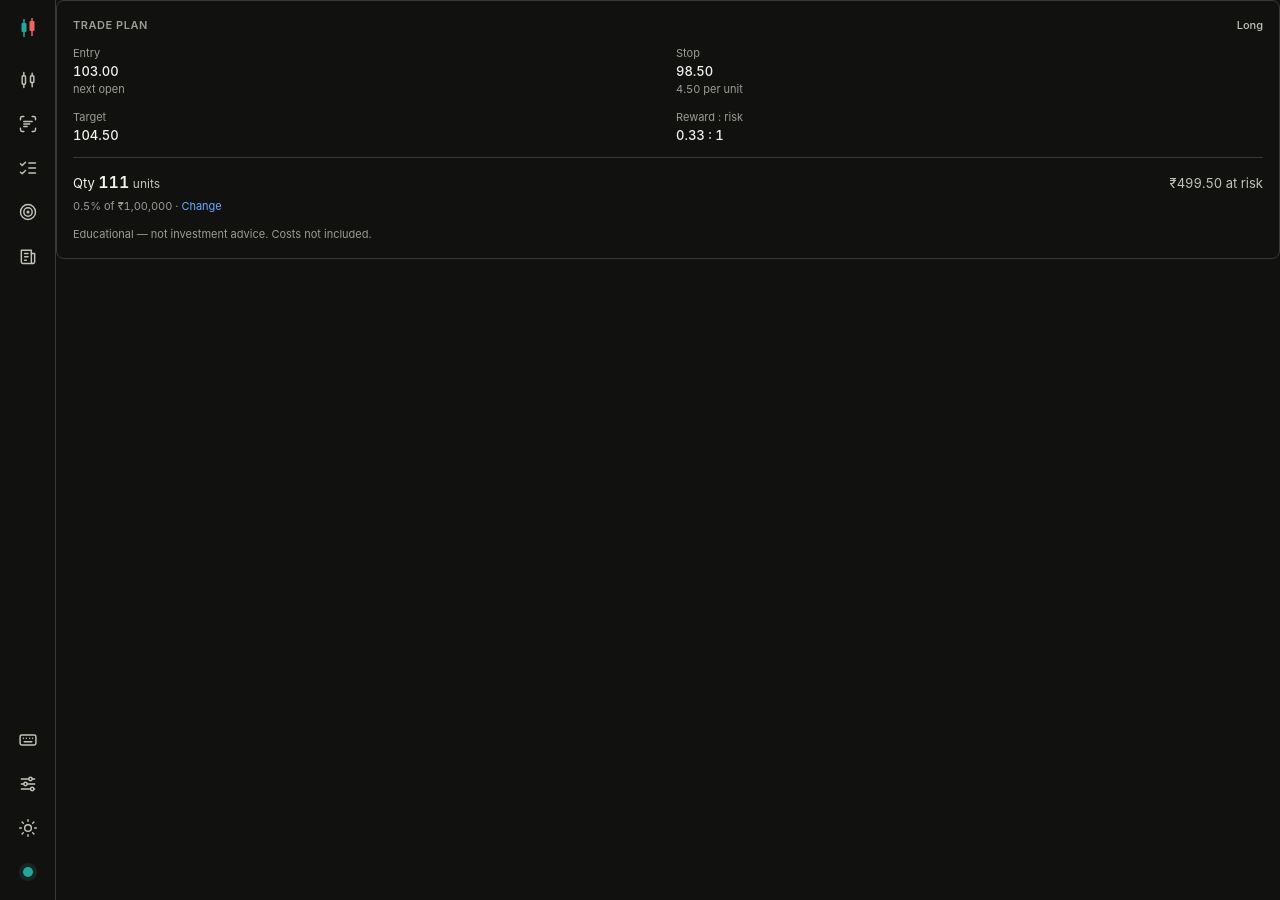
Test: app shell › edits capital and risk in Settings, and the trade card re-sizes and remembers
The width and height of the screenshot is (1280, 900).
Expected: the element "Trade plan" shows "Qty 111 units", top-left (56, 0), bottom-right (1279, 259)
Click the button named "Settings": (28, 784) top-left (8, 764), bottom-right (48, 804)
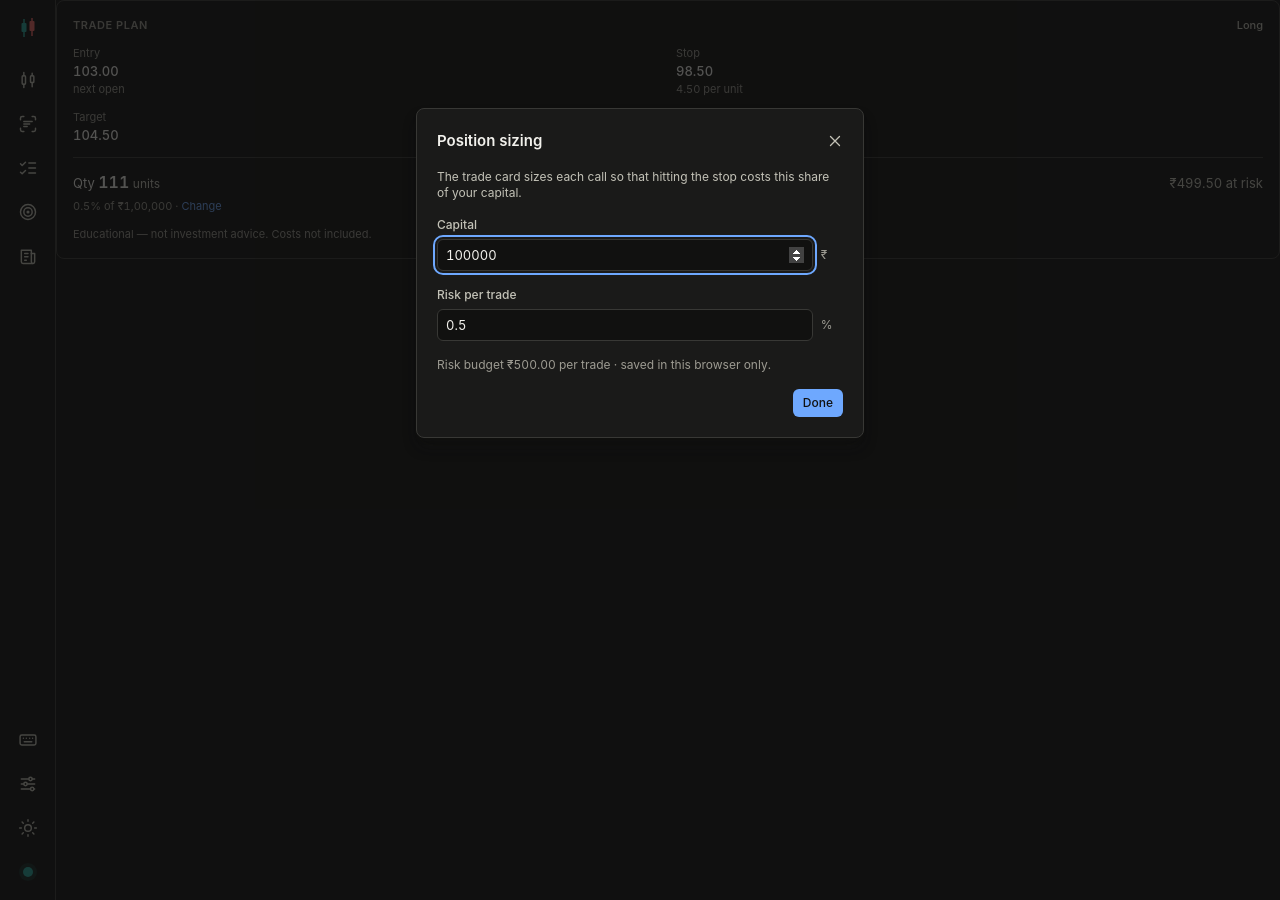
Replace the text in the number field labelled "Capital" with "200000": (625, 255) top-left (437, 239), bottom-right (813, 271)
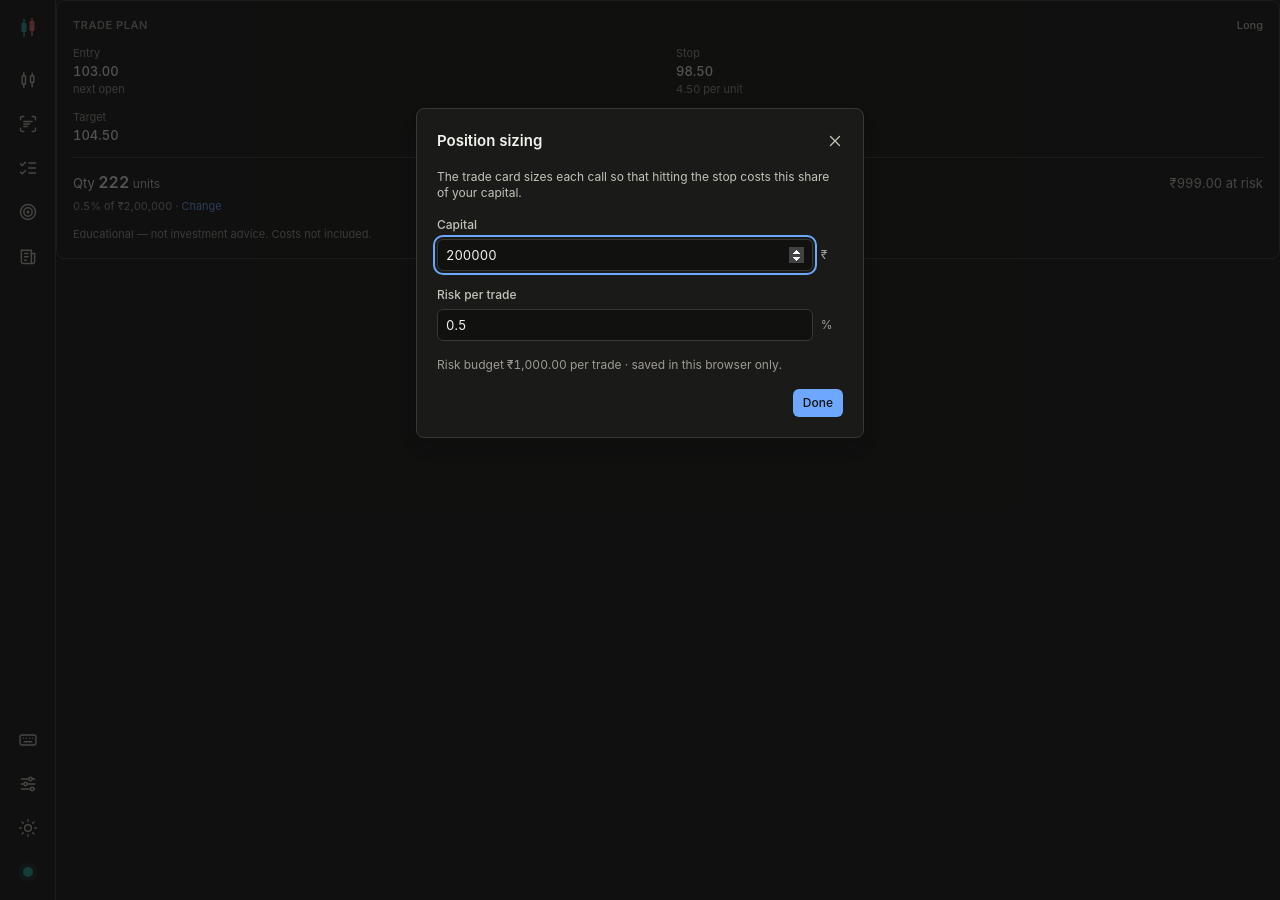
Now the element "Trade plan" shows "Qty 222 units", box top-left (56, 0), bottom-right (1279, 259)
Clear the number field labelled "Risk per trade": (625, 325) top-left (437, 309), bottom-right (813, 341)
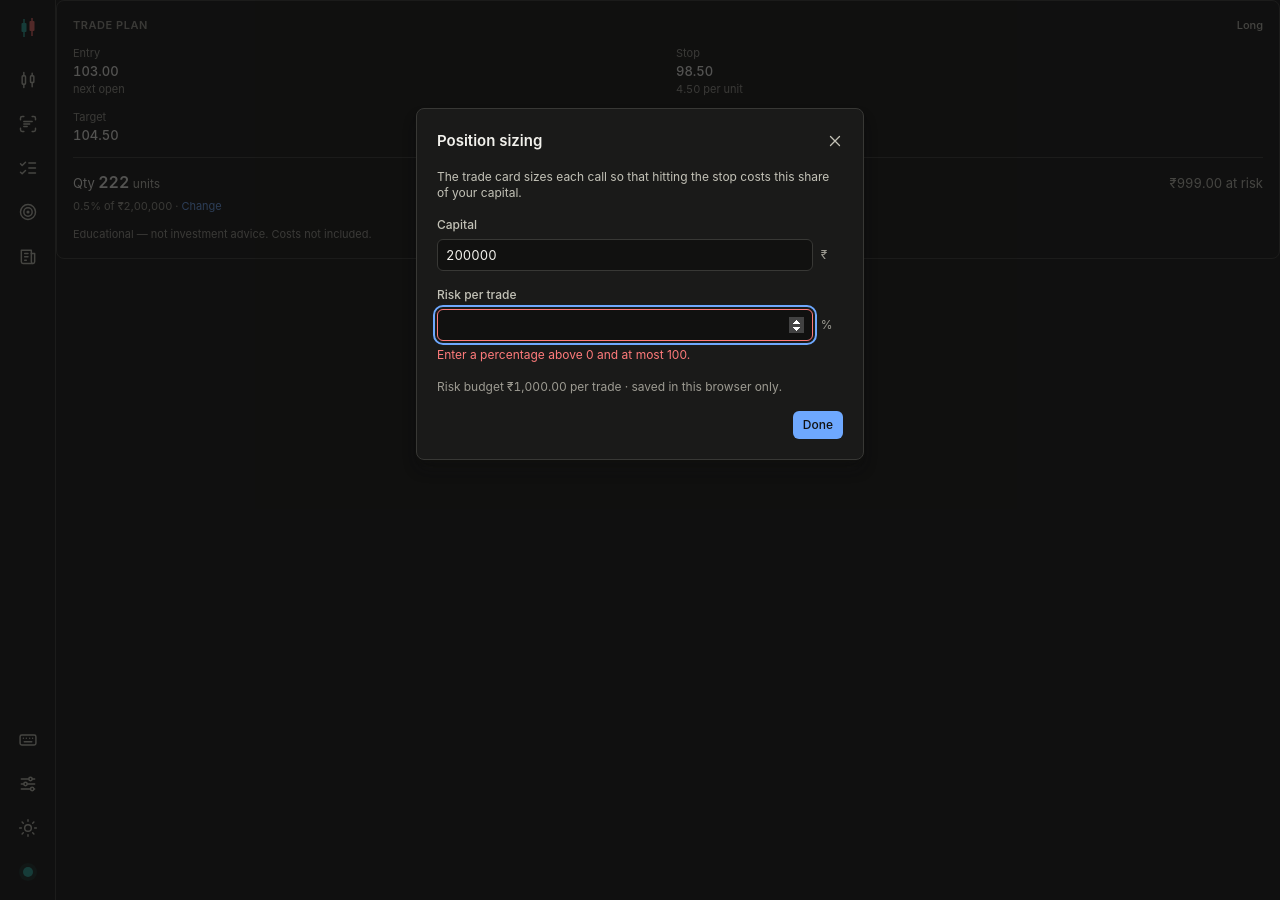
Now the text "Enter a percentage above 0 and at most 100." is shown, box top-left (437, 347), bottom-right (690, 362)
In the number field labelled "Risk per trade": (625, 325) top-left (437, 309), bottom-right (813, 341), type "1"
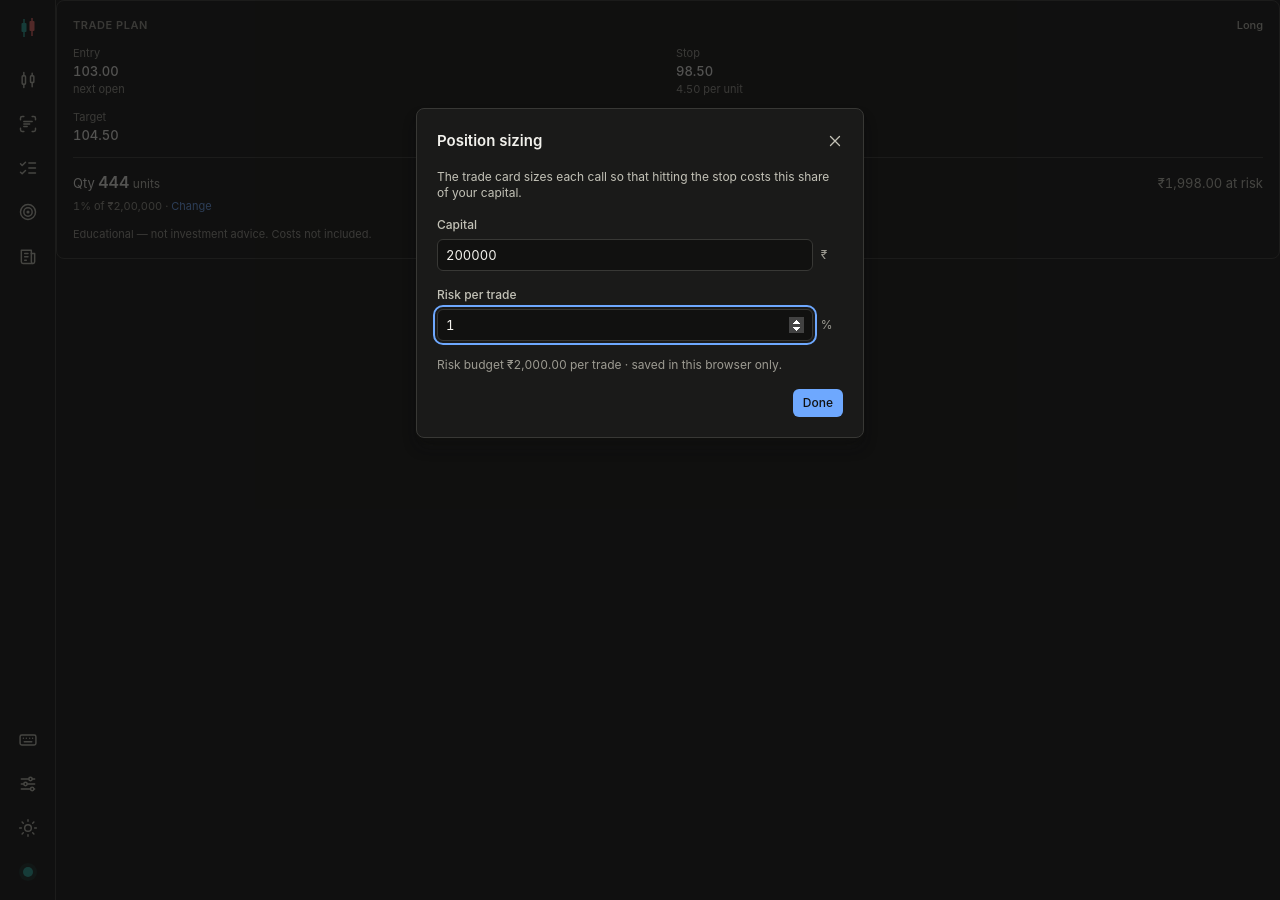
Now the element "Trade plan" shows "Qty 444 units", box top-left (56, 0), bottom-right (1279, 259)
Now the element "Trade plan" shows "₹1,998.00 at risk", box top-left (56, 0), bottom-right (1279, 259)
Press Escape
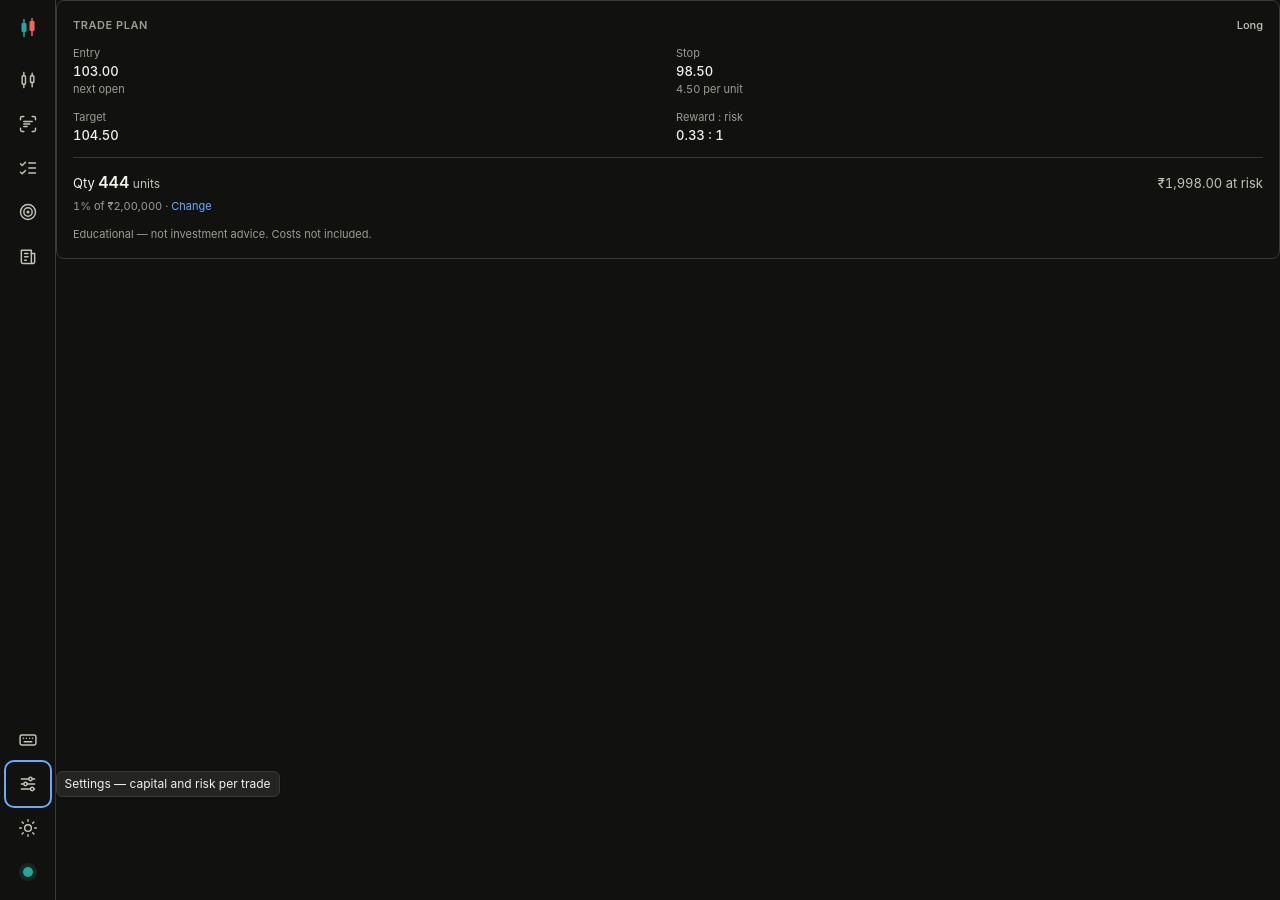
Now the dialog is gone
